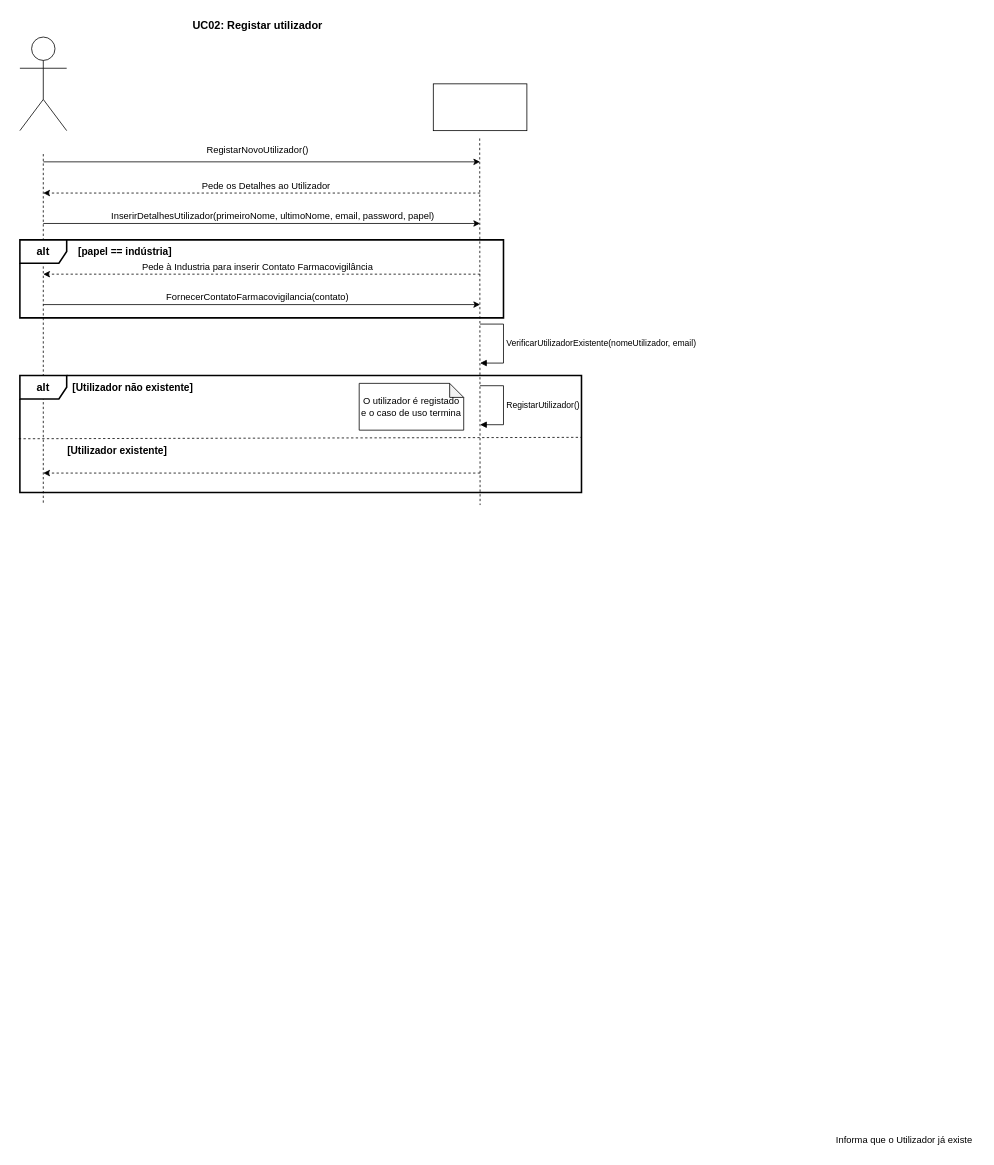
Image size: 994x1165. Some labels were removed from this diagram. Here are the shapes that lost their labels. From the top down, the centre of each, then its label:
the point at 43,83: :Administrador
the point at 480,107: :Sistema
